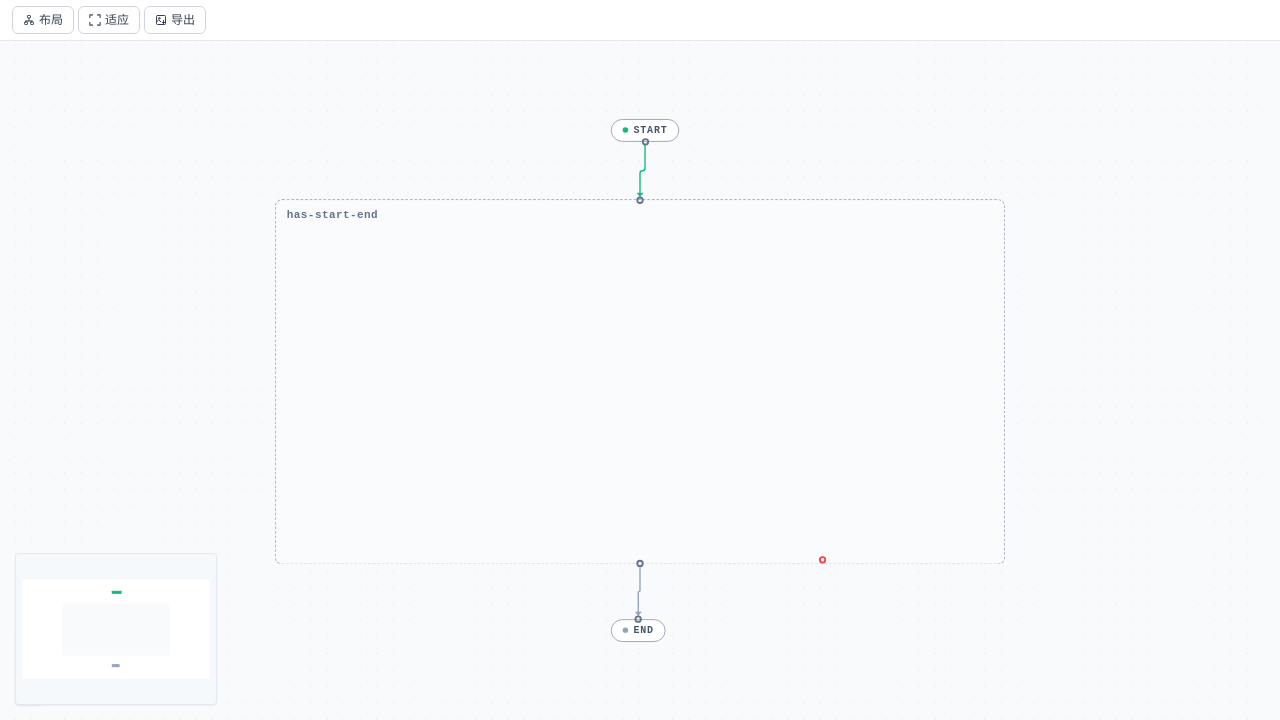
Test: 右键菜单 — 画布空白右键 › 默认 pipeline 已有 Start/End → 菜单中"添加 Start/End" disabled
The image size is (1280, 720).
Right-click the element showing "START END has-start-end" at (629, 380), box [253,119,1005,642]
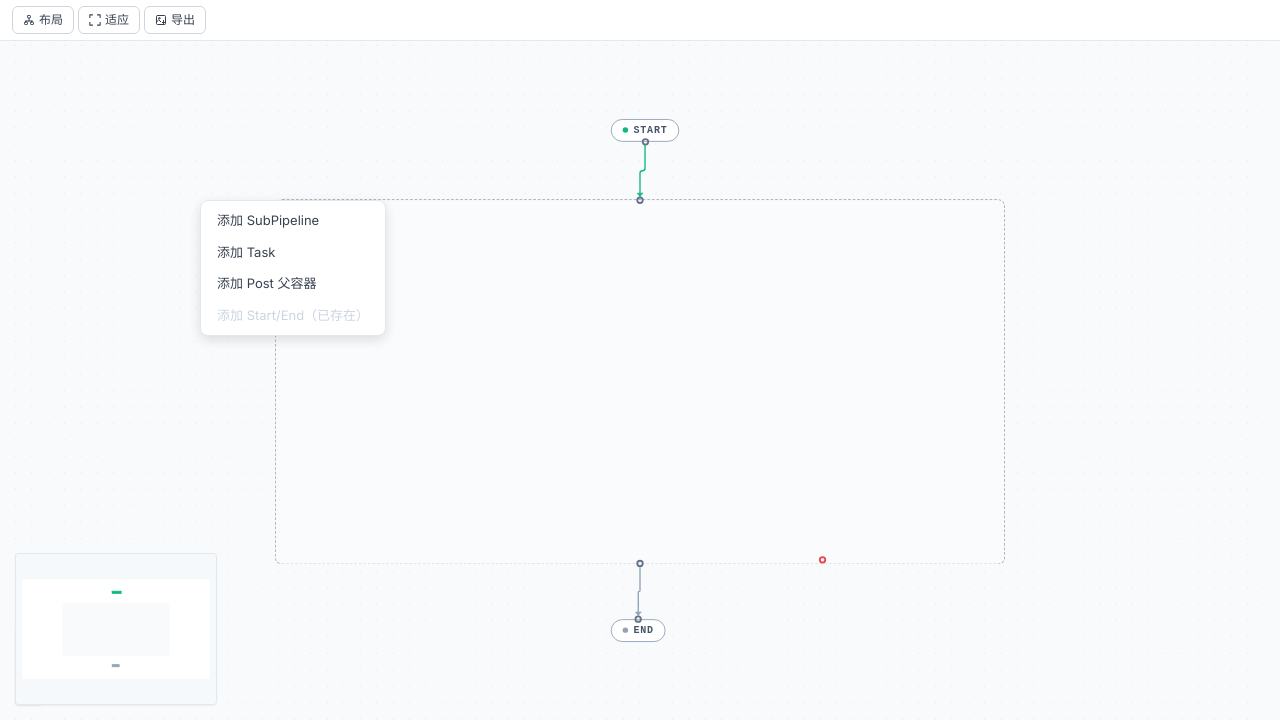
Now the text "添加 Start/End（已存在）" is shown, box [217,306,369,322]
